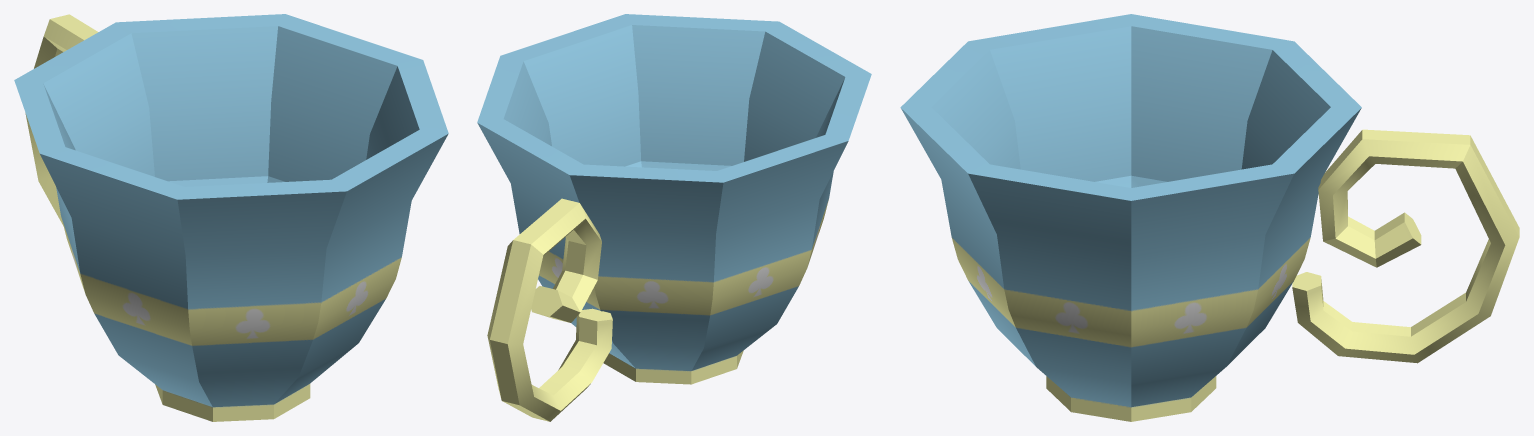
File: teacup1.fbx
The picture shows the model from 3 angles, left to right: view 1: azimuth 30°, elevation 25°; view 2: azimuth 150°, elevation 25°; view 3: azimuth 270°, elevation 25°; orthographic projection. The views are drawn at different scales.
Visible parts, largest first — view 1: teacup_geo; view 2: teacup_geo; view 3: teacup_geo.
Boxes of the visible parts, <box> form: teacup_geo: <box>14,14,448,421</box>; teacup_geo: <box>477,14,871,421</box>; teacup_geo: <box>900,14,1519,421</box>.
Size of the model in its own units: 7.02 by 4.92 by 9.82.
